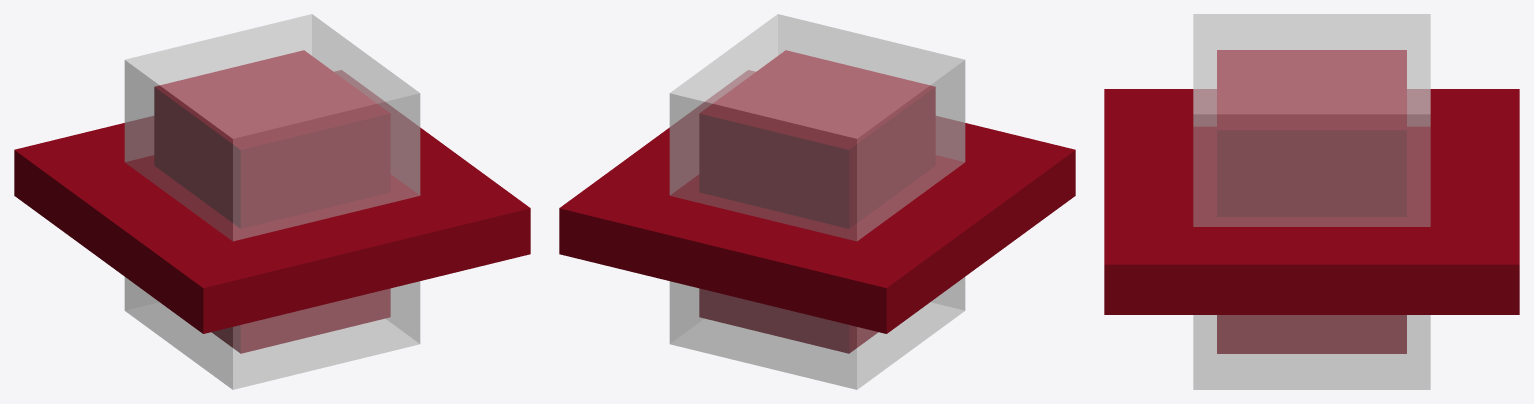
The model's file is Jam.fbx.
The picture shows the model from 3 angles, left to right: view 1: azimuth 30°, elevation 25°; view 2: azimuth 150°, elevation 25°; view 3: azimuth 270°, elevation 25°; orthographic projection. The views are drawn at different scales.
Parts seen in each view (by area): view 1: Cube, Cube.001, Cube.002; view 2: Cube, Cube.001, Cube.002; view 3: Cube.001, Cube, Cube.002.
Boxes of the visible parts, x1,y1,x2,y2 form: Cube: (124,14,420,389); Cube.001: (14,70,530,333); Cube.002: (154,50,390,353); Cube: (669,14,965,389); Cube.001: (559,70,1075,333); Cube.002: (699,50,935,353); Cube.001: (1104,89,1519,314); Cube: (1193,14,1430,389); Cube.002: (1217,50,1406,353).
Bounding box in the file's own units: 273 × 200 × 273.
